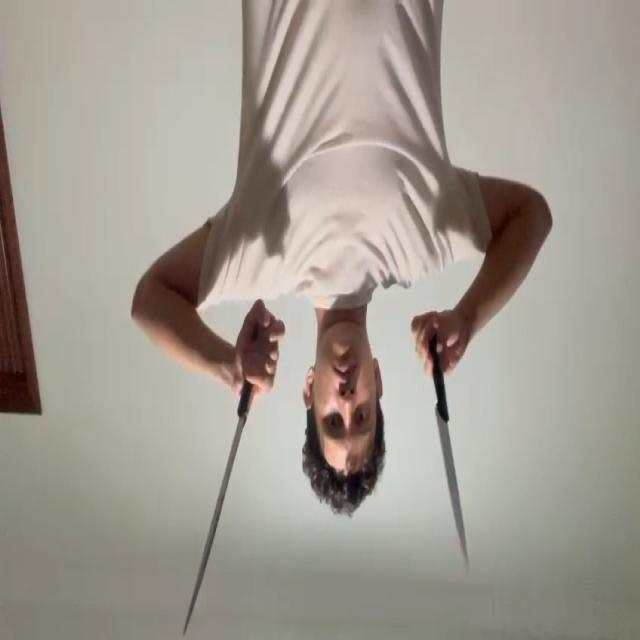knife: (182, 423, 242, 634), (436, 411, 470, 562)
